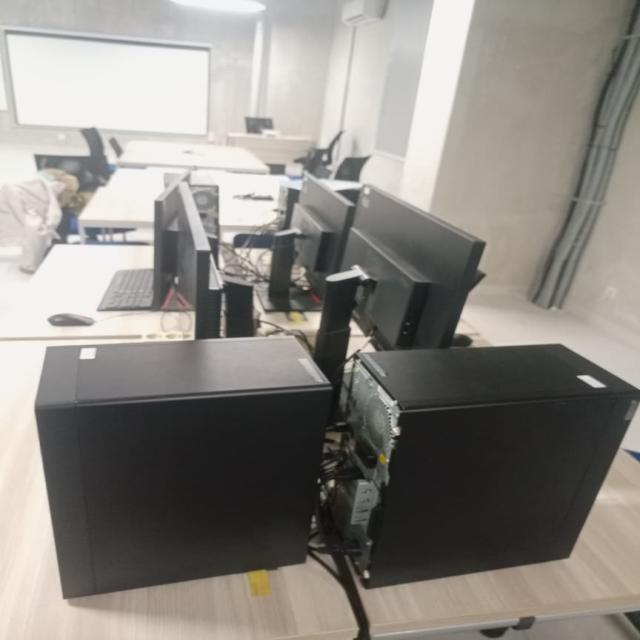monitor: (326, 183, 486, 348)
mouse: (43, 307, 111, 334)
pc: (24, 341, 339, 603), (346, 348, 640, 585)
